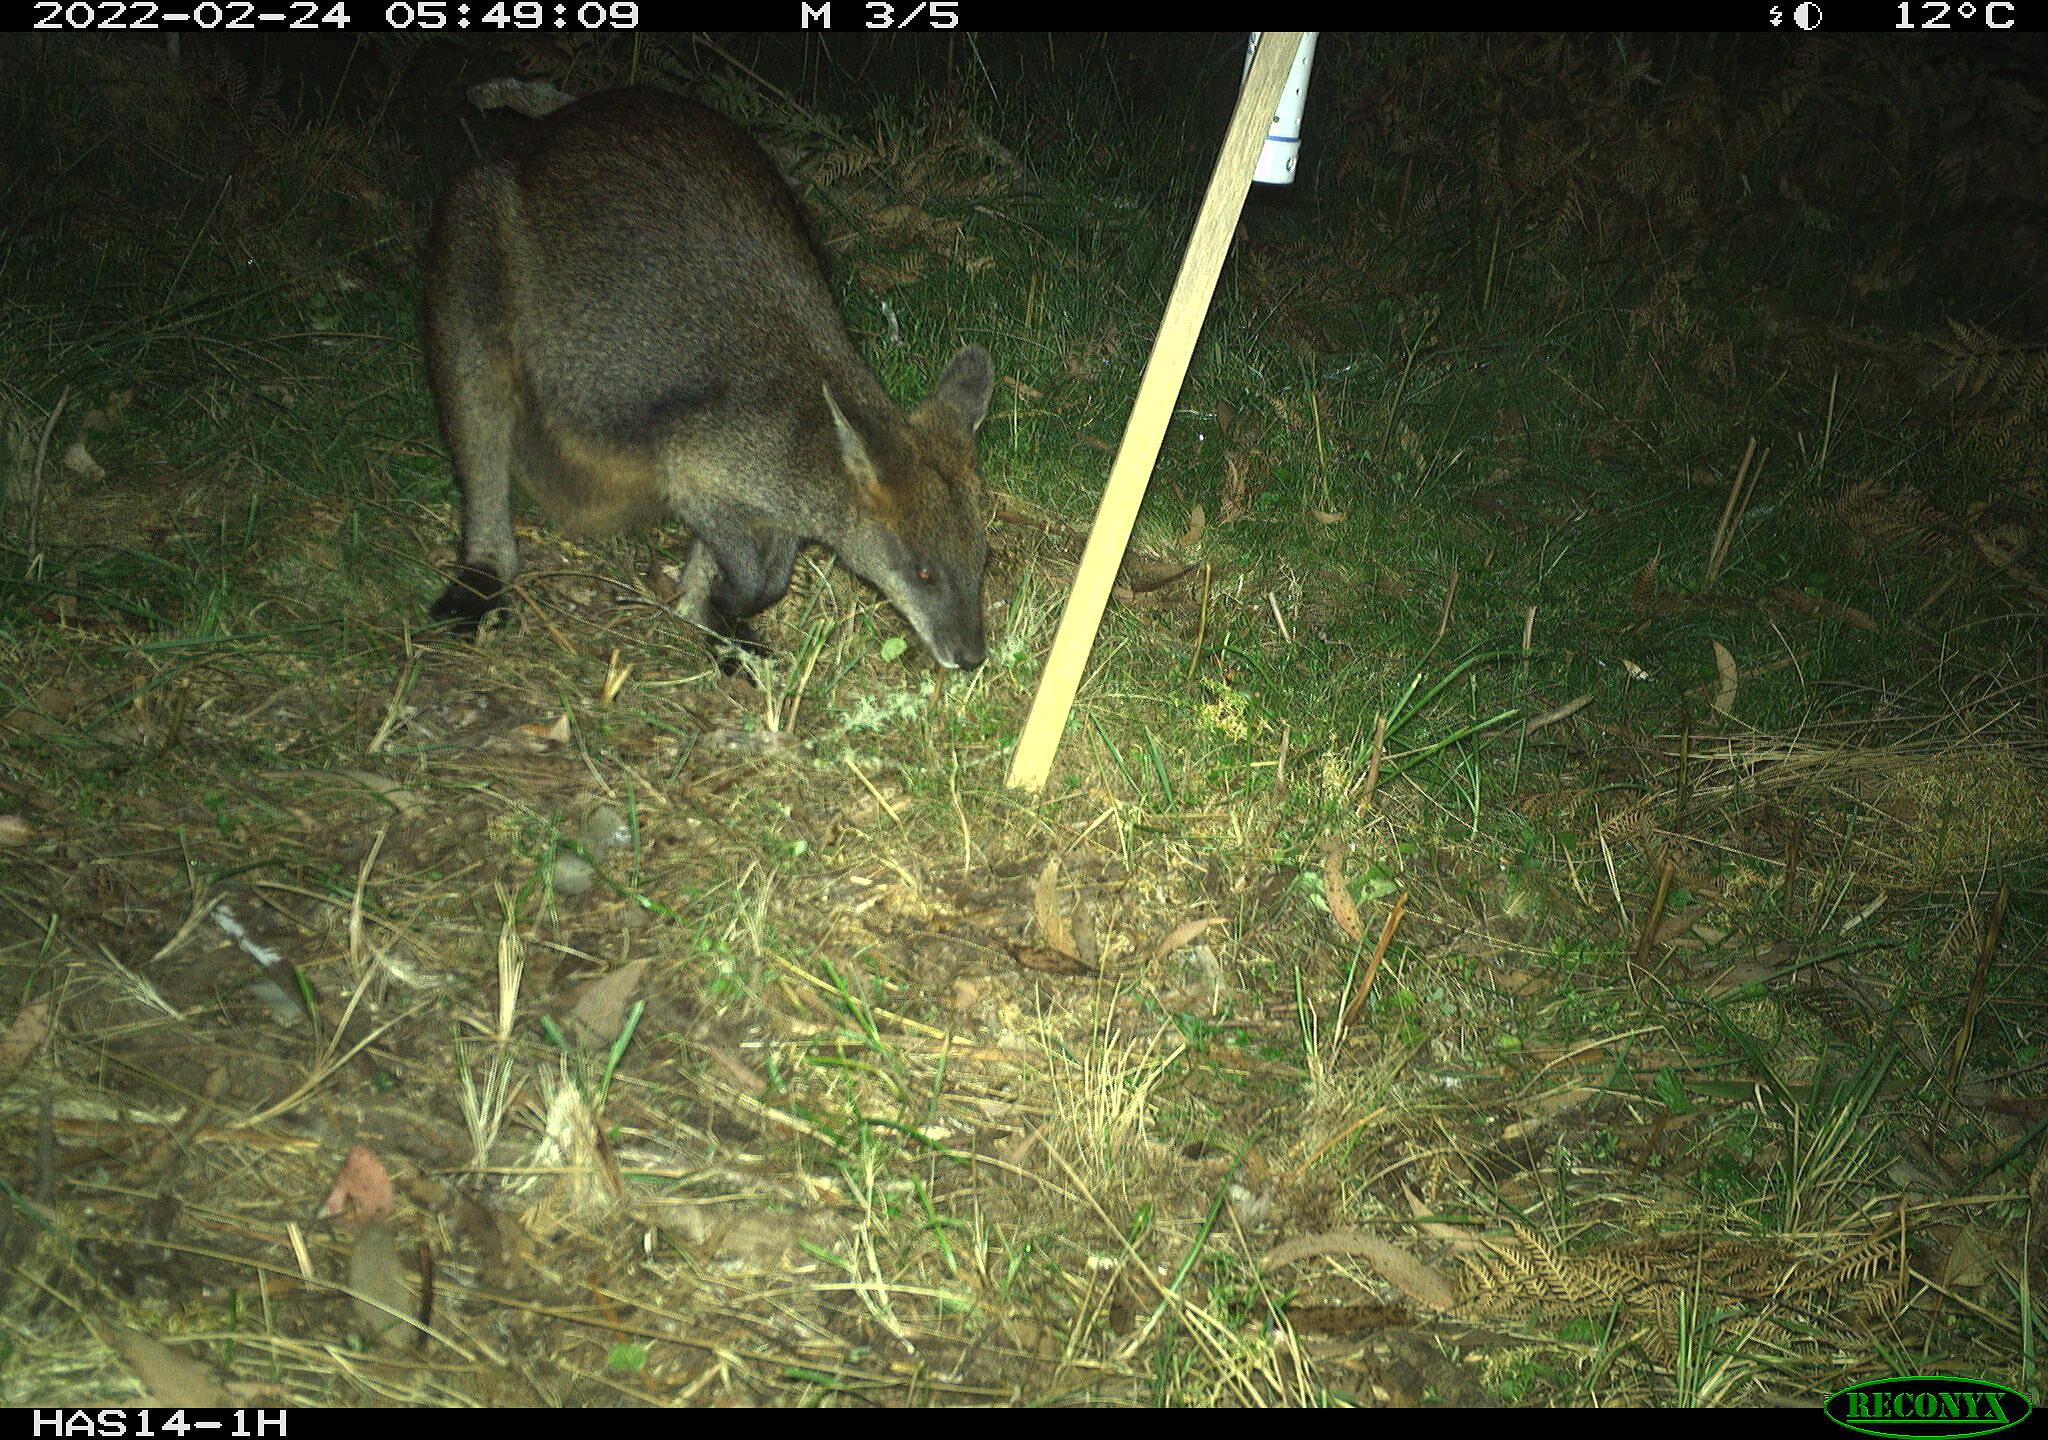Swamp wallaby: (405, 42, 1005, 697)
